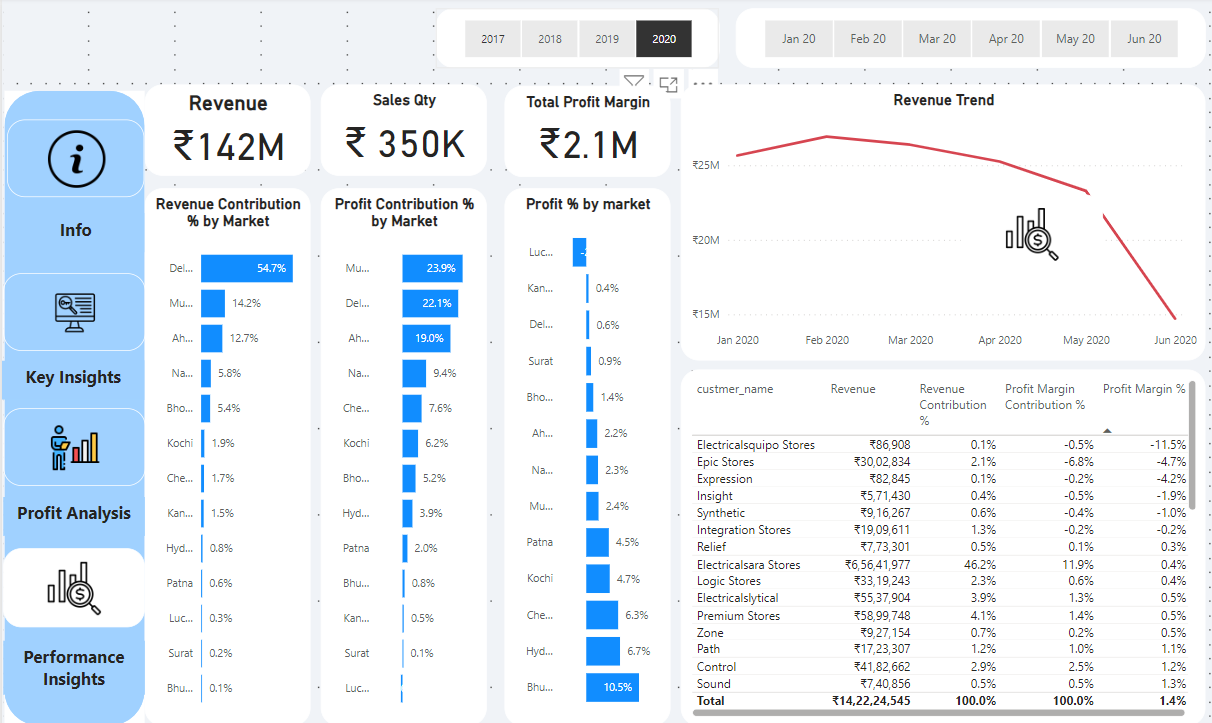

The page's visual inventory and layout, read from the dashboard file:
{"tool":"powerbi","page":{"name":"Profit Analysis","canvas":[1350,828],"ordinal":2},"visuals":[{"type":"card","title":"Revenue","fields":{"Values":["BaseMeasures (2).Revenue"]},"box":[158.6,97.4,185,101.6],"z":0},{"type":"card","title":"Sales Qty","fields":{"Values":["BaseMeasures (2).Sales Qty"]},"box":[354.8,97.4,185,101.6],"z":1000},{"type":"barChart","title":"Profit % by market","fields":{"Y":["BaseMeasures (2).Profit Margin %"],"Category":["sales markets.markets_name"]},"box":[559,212.9,185,598.3],"z":2000},{"type":"barChart","title":"Profit Contribution % by Market","fields":{"Y":["BaseMeasures (2).Profit Margin Contribution %"],"Category":["sales markets.markets_name"]},"box":[354.8,212.9,185,598.3],"z":3000},{"type":"slicer","fields":{"Values":["sales date.year"]},"box":[482.8,12.5,315.8,66.8],"z":4000},{"type":"slicer","fields":{"Values":["sales date.cy_date"]},"box":[816.7,12.5,523.1,66.8],"z":5000},{"type":"tableEx","title":"Top 5 Customers","fields":{"Values":["sales customers.custmer_name","BaseMeasures (2).Revenue","BaseMeasures (2).Revenue Contribution %","BaseMeasures (2).Profit Margin Contribution %","BaseMeasures (2).Profit Margin %"]},"box":[755.5,414.6,584.3,396.5],"z":6000},{"type":"lineChart","title":"Revenue Trend","fields":{"Y":["BaseMeasures (2).Revenue"],"Category":["sales date.cy_date"]},"box":[755.5,97.4,584.3,307.5],"z":7000},{"type":"card","title":"Total Profit Margin","fields":{"Values":["BaseMeasures (2).Total Profit Margin"]},"box":[559.3,98.8,185,101.6],"z":8000},{"type":"barChart","title":"Revenue Contribution % by Market","fields":{"Y":["BaseMeasures (2).Revenue Contribution %"],"Category":["sales markets.markets_name"]},"box":[158.6,212.9,185,598.3],"z":9000},{"type":"shape","box":[2.8,104.3,155.8,706.8],"z":10000},{"type":"image","box":[1.4,457.7,158.6,86.3],"z":11000},{"type":"image","box":[5.6,136.3,153,86.3],"z":12000},{"type":"image","box":[1.4,307.5,158.6,86.3],"z":13000},{"type":"textbox","box":[5.6,240.7,153,43.1],"z":14000},{"type":"textbox","box":[0,404.9,158.6,43.1],"z":15000},{"type":"textbox","box":[1.4,556.5,157.2,43.1],"z":16000},{"type":"image","box":[1.4,613.6,157.2,87.7],"z":17000},{"type":"image","box":[1066.8,219.3,158,87],"z":18000},{"type":"textbox","box":[1.4,716.5,157.2,59.8],"z":19000}]}

Visuals, with their boxes in screenshot pixels (x1, y1, x2, y2), scaled from the page's 1350x828 canvas onto the 1212x723 screenshot:
"Revenue" card: 142,85,308,174
"Sales Qty" card: 319,85,485,174
"Profit % by market" barChart: 502,186,668,708
"Profit Contribution % by Market" barChart: 319,186,485,708
slicer - sales date.year: 433,11,717,69
slicer - sales date.cy_date: 733,11,1203,69
"Top 5 Customers" tableEx: 678,362,1203,708
"Revenue Trend" lineChart: 678,85,1203,354
"Total Profit Margin" card: 502,86,668,175
"Revenue Contribution % by Market" barChart: 142,186,308,708
shape: 3,91,142,708
image: 1,400,144,475
image: 5,119,142,194
image: 1,269,144,344
textbox: 5,210,142,248
textbox: 0,354,142,391
textbox: 1,486,142,524
image: 1,536,142,612
image: 958,191,1100,267
textbox: 1,626,142,678
